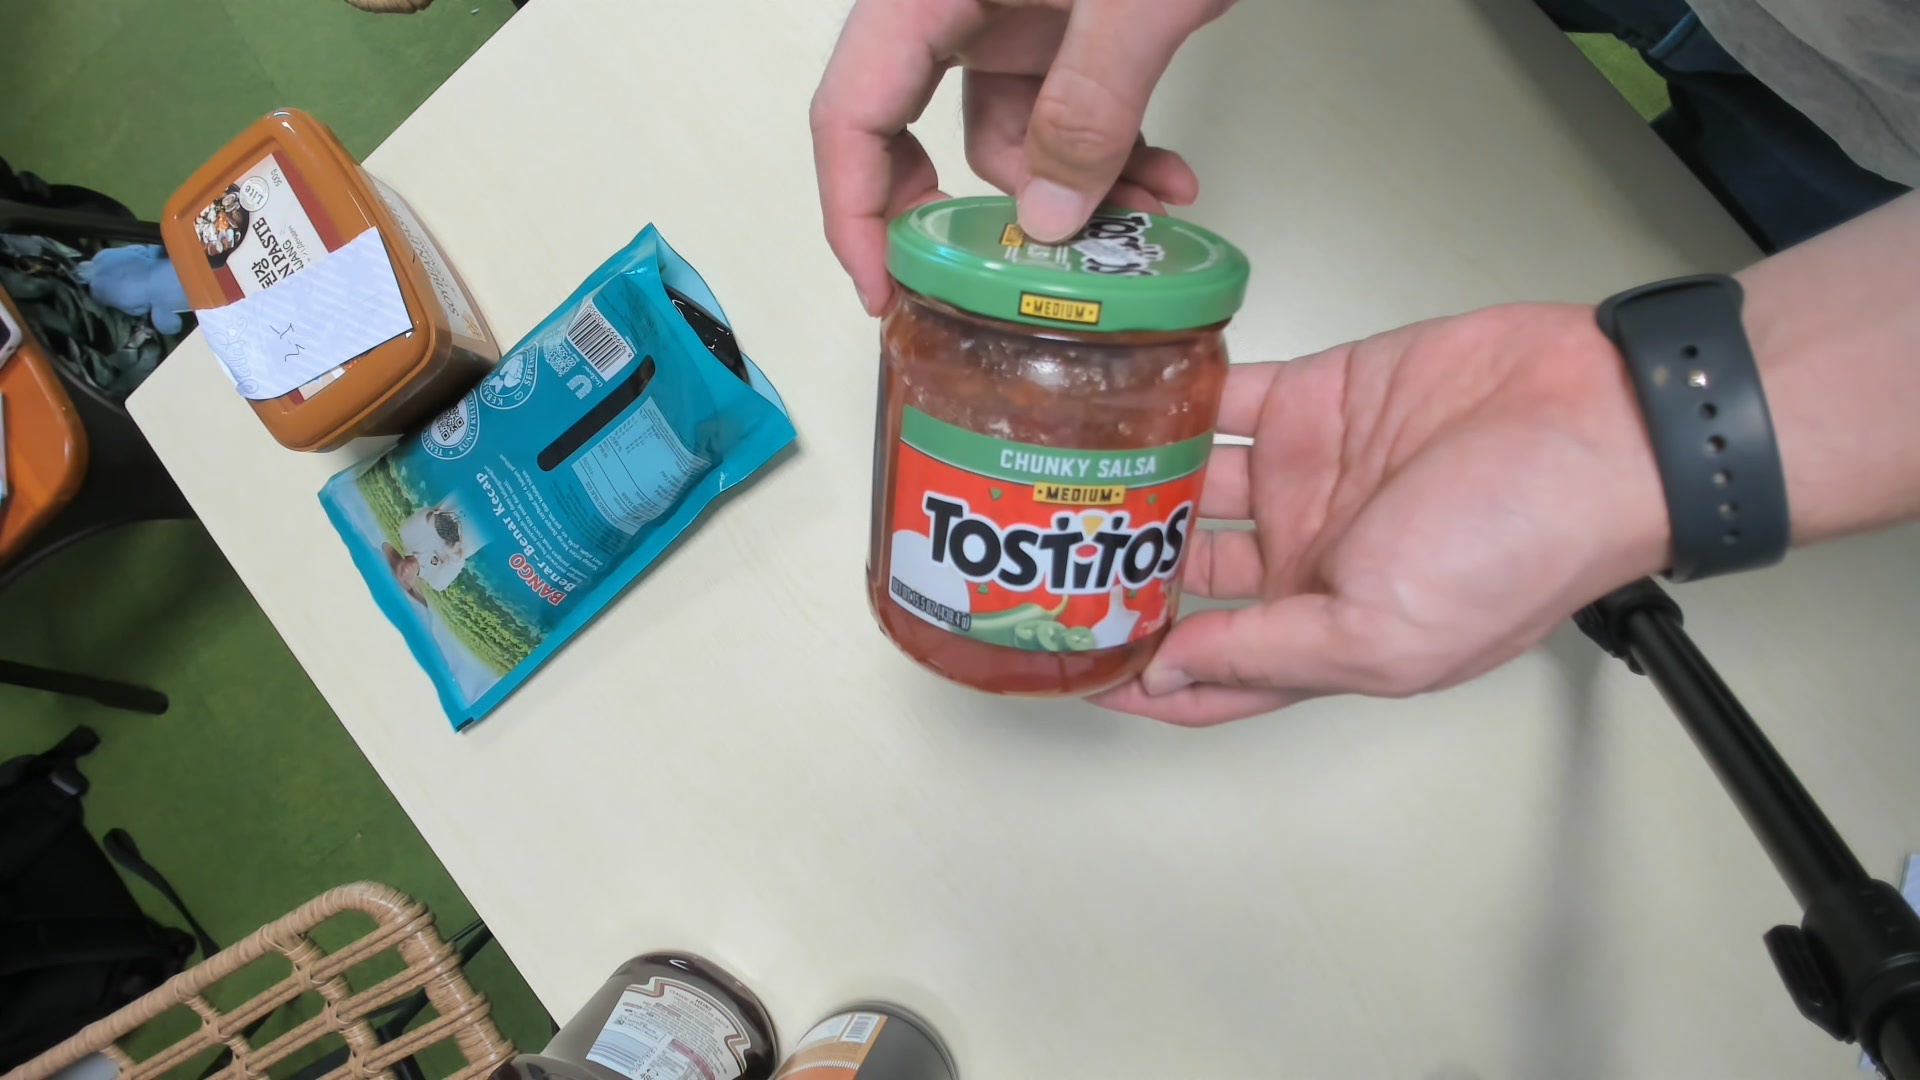OtherSauceDressing_400-499g_NonHalal_NonHealthy: (853, 187, 1254, 702)
